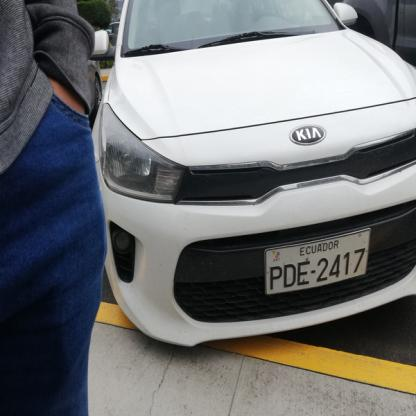Placa: (260, 232, 382, 297)
